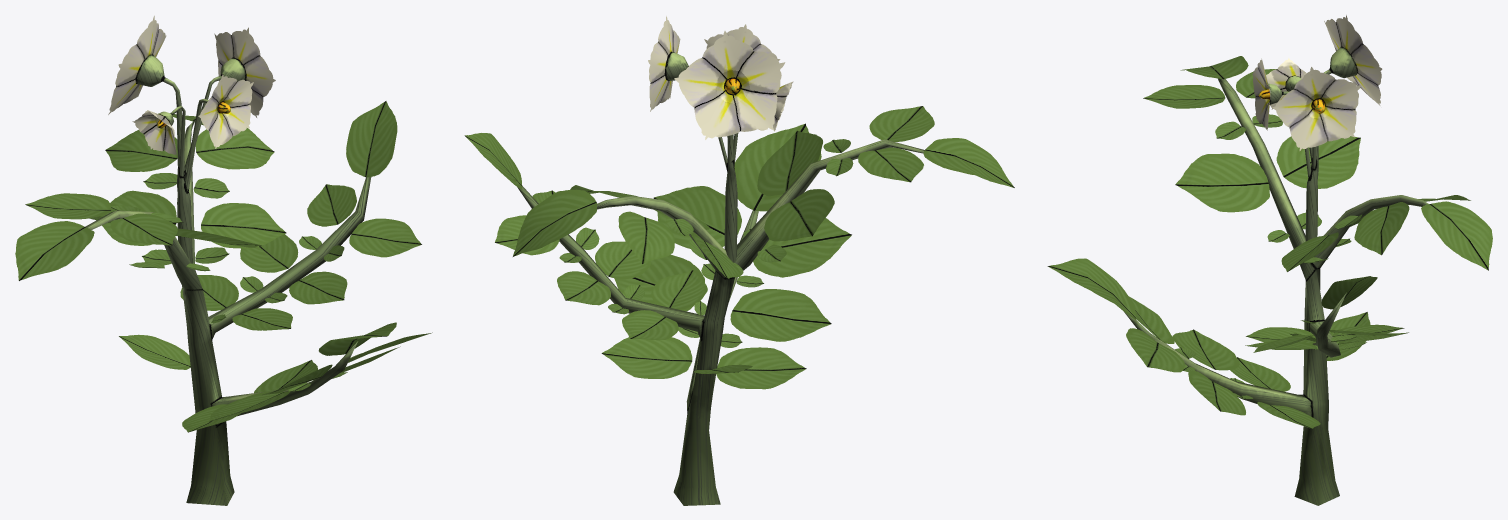
The model's file is SM_Potato_Growing4.fbx.
3 renders of one model, left to right at view 1: azimuth 30°, elevation 25°; view 2: azimuth 150°, elevation 25°; view 3: azimuth 270°, elevation 25°, orthographic. The views are drawn at different scales.
Parts seen in each view (by area): view 1: SM_Potato_Growing4; view 2: SM_Potato_Growing4; view 3: SM_Potato_Growing4.
Boxes of the visible parts, x1,y1,x2,y2 form: SM_Potato_Growing4: (15, 15, 432, 505); SM_Potato_Growing4: (464, 16, 1014, 505); SM_Potato_Growing4: (1047, 15, 1492, 505).
Size of the model in its own units: 115 by 116 by 102.
